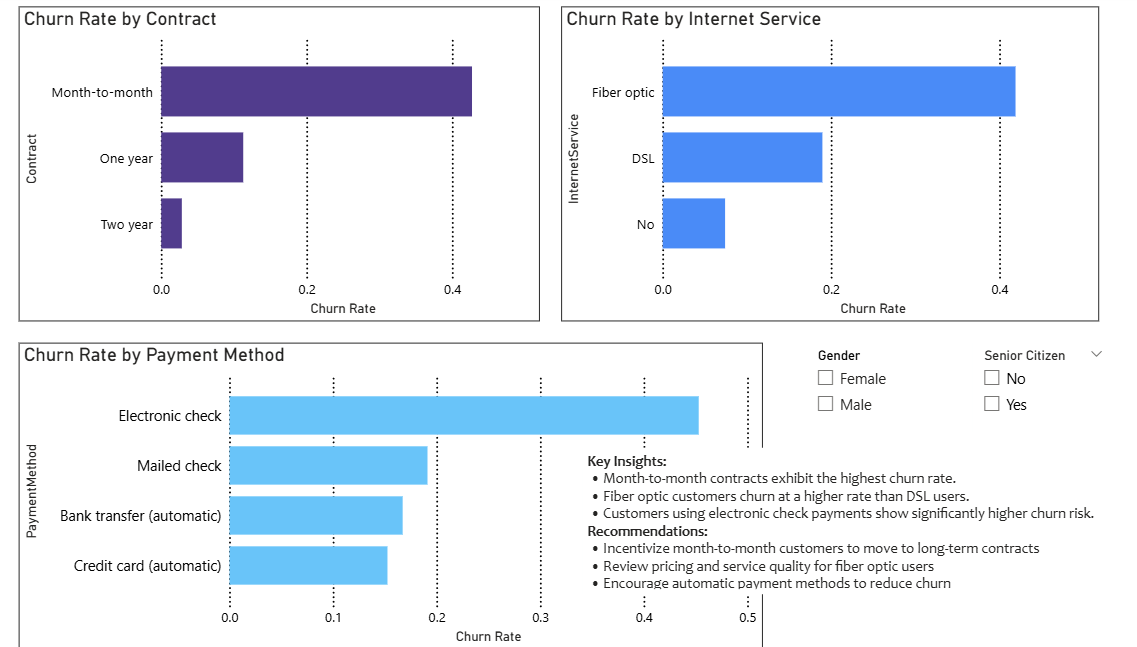

The dashboard page shown, as its layout file describes it:
{"tool":"powerbi","page":{"name":"Churn Drivers","canvas":[1280,720],"ordinal":1},"visuals":[{"type":"barChart","fields":{"Category":["WA_Fn-UseC_-Telco-Customer-Churn.Contract"],"Y":["WA_Fn-UseC_-Telco-Customer-Churn.Churn Rate"]},"box":[20.6,13.7,572.2,345.8],"z":0},{"type":"barChart","title":"Churn Rate by Payment Method","fields":{"Category":["WA_Fn-UseC_-Telco-Customer-Churn.PaymentMethod"],"Y":["WA_Fn-UseC_-Telco-Customer-Churn.Churn Rate"]},"box":[20.6,382.8,816.5,337.6],"z":1000},{"type":"barChart","title":"Churn Rate by Internet Service","fields":{"Y":["WA_Fn-UseC_-Telco-Customer-Churn.Churn Rate"],"Category":["WA_Fn-UseC_-Telco-Customer-Churn.InternetService"]},"box":[616.1,13.7,590.1,345.8],"z":2000},{"type":"slicer","fields":{"Values":["WA_Fn-UseC_-Telco-Customer-Churn.gender"]},"box":[885.1,382.8,129,100.2],"z":3000},{"type":"slicer","fields":{"Values":["WA_Fn-UseC_-Telco-Customer-Churn.SeniorCitizen"]},"box":[1067.6,382.8,155.1,98.8],"z":4000},{"type":"textbox","box":[639.5,498.1,627.1,160.5],"z":4001}]}

Visuals, with their boxes in screenshot pixels (x1, y1, x2, y2), scaled from the page's 1280x720 canvas onto the 1137x647 screenshot:
barChart - WA_Fn-UseC_-Telco-Customer-Churn.Contract x WA_Fn-UseC_-Telco-Customer-Churn.Churn Rate: rect(18, 12, 527, 323)
"Churn Rate by Payment Method" barChart: rect(18, 344, 744, 646)
"Churn Rate by Internet Service" barChart: rect(547, 12, 1071, 323)
slicer - WA_Fn-UseC_-Telco-Customer-Churn.gender: rect(786, 344, 901, 434)
slicer - WA_Fn-UseC_-Telco-Customer-Churn.SeniorCitizen: rect(948, 344, 1086, 433)
textbox: rect(568, 448, 1125, 592)
